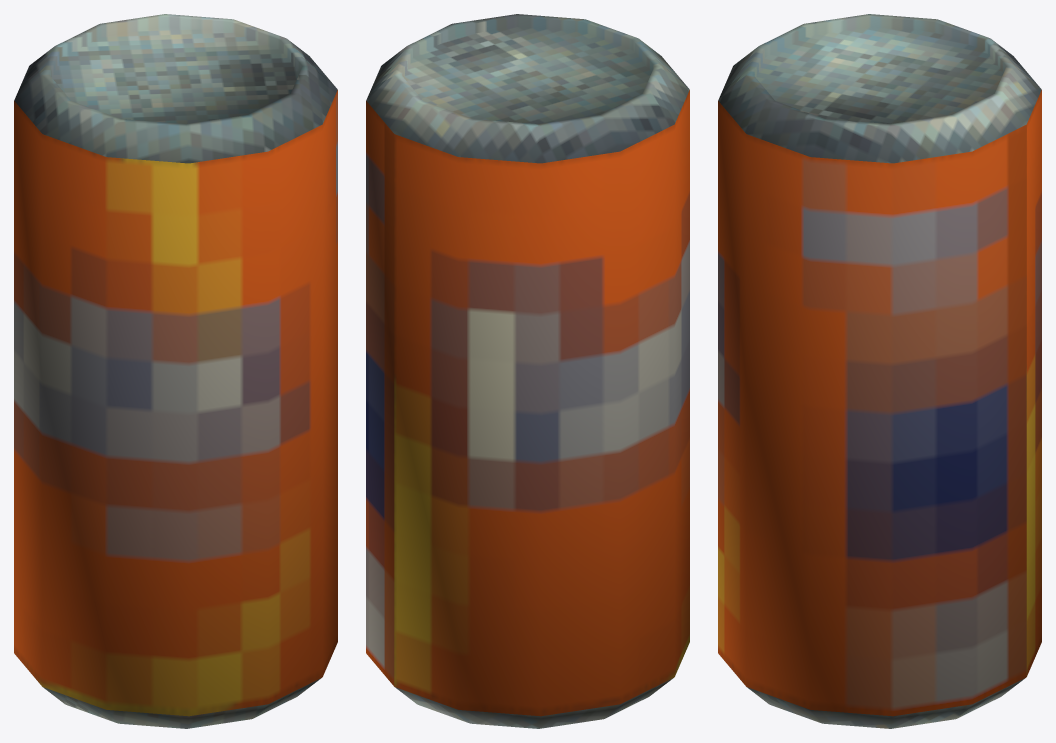
File: can_fantac.glb
3 views of the same model, side by side, from view 1: azimuth 30°, elevation 25°; view 2: azimuth 150°, elevation 25°; view 3: azimuth 270°, elevation 25° (orthographic).
Visible parts, largest first — view 1: can fantac; view 2: can fantac; view 3: can fantac.
Boxes of the visible parts, <box> form: can fantac: <box>14,14,337,728</box>; can fantac: <box>366,14,689,728</box>; can fantac: <box>718,14,1041,728</box>.
Bounding box in the file's own units: 0.073 × 0.1498 × 0.073.
1 material, 1 textured.
